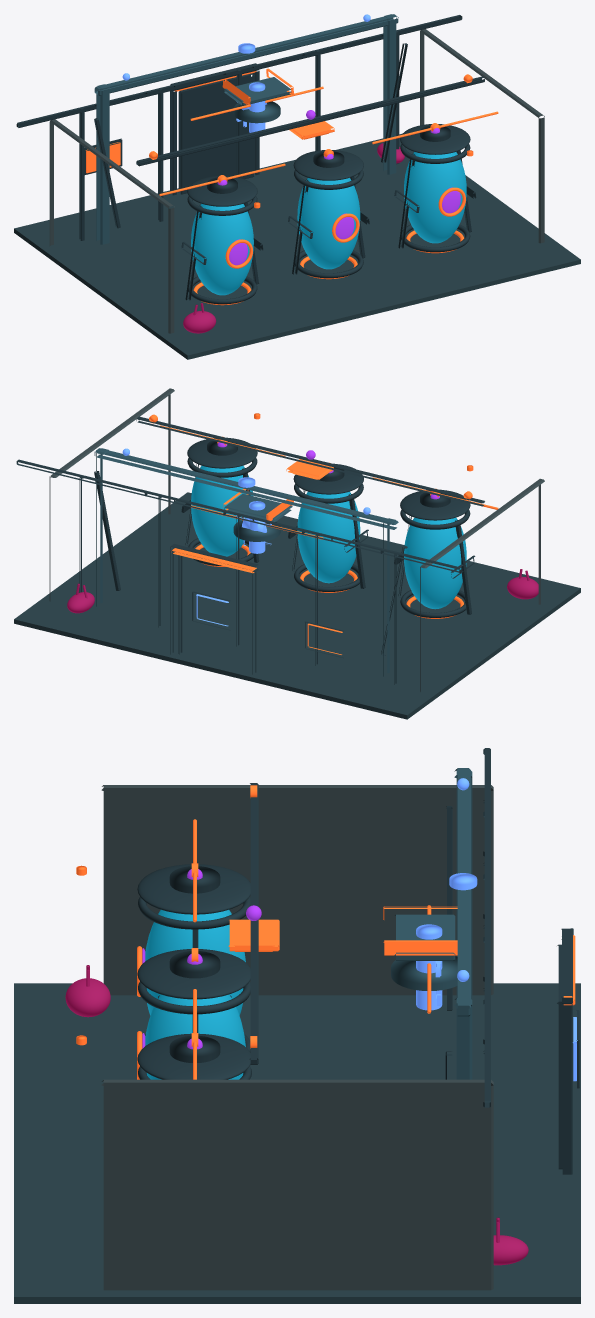
Rendered from buried_labs.gltf.
3 renders of one model, top to bottom at view 1: azimuth 30°, elevation 25°; view 2: azimuth 150°, elevation 25°; view 3: azimuth 270°, elevation 25°, orthographic. The views are drawn at different scales.
Visible parts, largest first — view 1: BuriedLabsContainmentHall, BuriedLabsContainmentDoor, BuriedLabsWall (×2), BuriedLabsVesselBody1, BuriedLabsVesselBody2, BuriedLabsVesselBody0, BuriedLabsExtractionBeam, BuriedLabsTransferRail, BuriedLabsExtractionPylonR, BuriedLabsExtractionPylonL, BuriedLabsVesselCap1, BuriedLabsVesselCap2 (+23 smaller); view 2: BuriedLabsContainmentHall, BuriedLabsVesselBody0, BuriedLabsVesselBody1, BuriedLabsVesselBody2, BuriedLabsExtractionBeam, BuriedLabsWall (×2), BuriedLabsTransferRail, BuriedLabsVesselCap2, BuriedLabsVesselCap0, BuriedLabsVesselCap1, BuriedLabsExtractionCradle, BuriedLabsFrame0Top (+20 smaller); view 3: BuriedLabsWall (×2), BuriedLabsContainmentHall, BuriedLabsVesselCap1, BuriedLabsVesselCap0, BuriedLabsVesselCap2, BuriedLabsVesselBody1, BuriedLabsExtractionBeam, BuriedLabsVesselBody0, BuriedLabsTransferRail, BuriedLabsContainmentDoorJambR, BuriedLabsExtractionCradle, BuriedLabsGenomePrismHousing (+18 smaller).
Part boxes in pixels (bbox=[...]): BuriedLabsContainmentHall: bbox=[14, 134, 580, 359]; BuriedLabsContainmentDoor: bbox=[178, 73, 254, 194]; BuriedLabsWall (×2): bbox=[49, 29, 544, 333]; BuriedLabsVesselBody1: bbox=[297, 177, 360, 269]; BuriedLabsVesselBody2: bbox=[404, 152, 466, 243]; BuriedLabsVesselBody0: bbox=[191, 203, 253, 295]; BuriedLabsExtractionBeam: bbox=[94, 14, 398, 95]; BuriedLabsTransferRail: bbox=[136, 76, 484, 166]; BuriedLabsExtractionPylonR: bbox=[383, 14, 396, 174]; BuriedLabsExtractionPylonL: bbox=[96, 84, 109, 244]; BuriedLabsVesselCap1: bbox=[293, 150, 363, 180]; BuriedLabsVesselCap2: bbox=[400, 124, 470, 154]; BuriedLabsContainmentHall: bbox=[14, 492, 580, 719]; BuriedLabsVesselBody0: bbox=[404, 517, 466, 609]; BuriedLabsVesselBody1: bbox=[297, 491, 360, 583]; BuriedLabsVesselBody2: bbox=[191, 465, 252, 556]; BuriedLabsExtractionBeam: bbox=[94, 448, 398, 529]; BuriedLabsWall (×2): bbox=[49, 388, 544, 691]; BuriedLabsTransferRail: bbox=[136, 416, 484, 506]; BuriedLabsVesselCap2: bbox=[187, 437, 257, 468]; BuriedLabsVesselCap0: bbox=[400, 489, 470, 520]; BuriedLabsVesselCap1: bbox=[293, 463, 363, 494]; BuriedLabsExtractionCradle: bbox=[224, 494, 292, 521]; BuriedLabsFrame0Top: bbox=[331, 536, 462, 572]; BuriedLabsWall (×2): bbox=[101, 785, 493, 1290]; BuriedLabsContainmentHall: bbox=[14, 983, 580, 1303]; BuriedLabsVesselCap1: bbox=[137, 949, 250, 999]; BuriedLabsVesselCap0: bbox=[137, 864, 250, 914]; BuriedLabsVesselCap2: bbox=[137, 1033, 250, 1079]; BuriedLabsVesselBody1: bbox=[145, 994, 245, 1079]; BuriedLabsExtractionBeam: bbox=[455, 768, 470, 1016]; BuriedLabsVesselBody0: bbox=[145, 909, 245, 1015]; BuriedLabsTransferRail: bbox=[249, 783, 258, 1064]; BuriedLabsContainmentDoorJambR: bbox=[561, 1003, 572, 1174]; BuriedLabsExtractionCradle: bbox=[394, 914, 455, 960]; BuriedLabsGenomePrismHousing: bbox=[391, 956, 457, 990].
Bounding box in the file's own units: 19.2 × 6.9 × 13.
